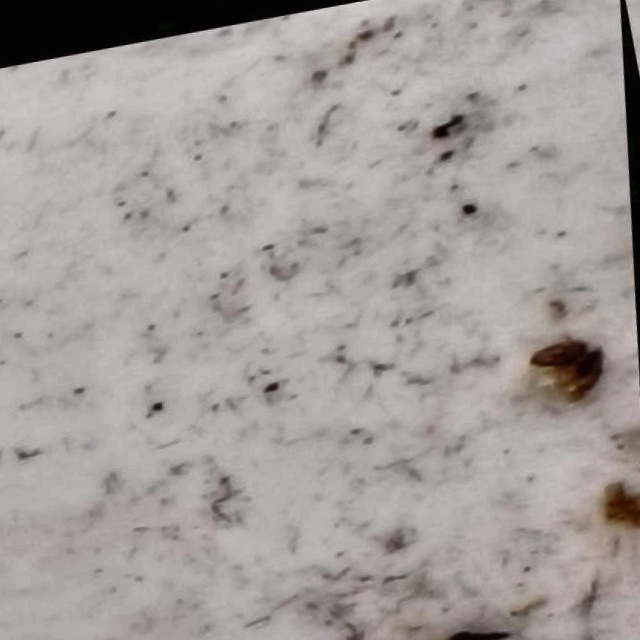varroa: (532, 335, 597, 377)
